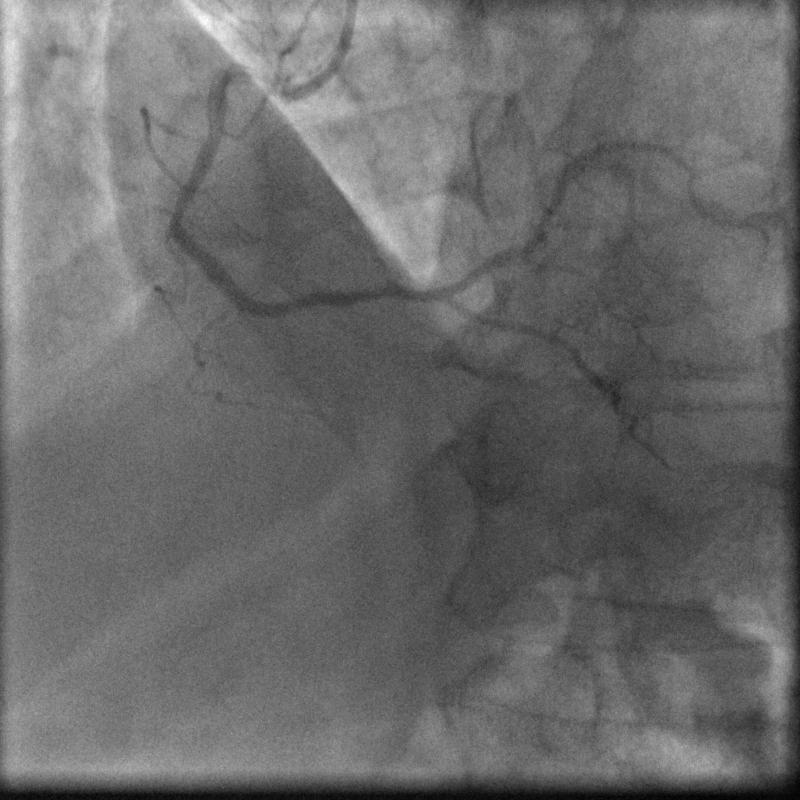Stenosis: (166, 202, 190, 220)
